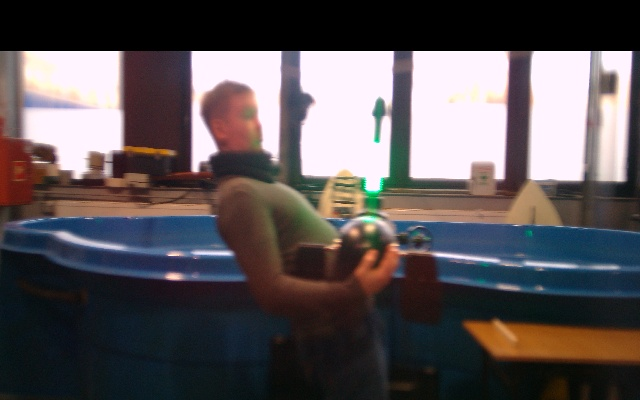green: (365, 143, 385, 196)
